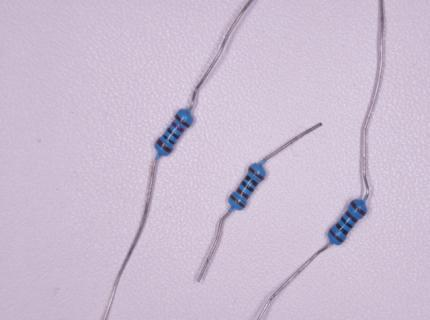Brown band: (345, 210, 358, 223), (236, 187, 249, 199)
